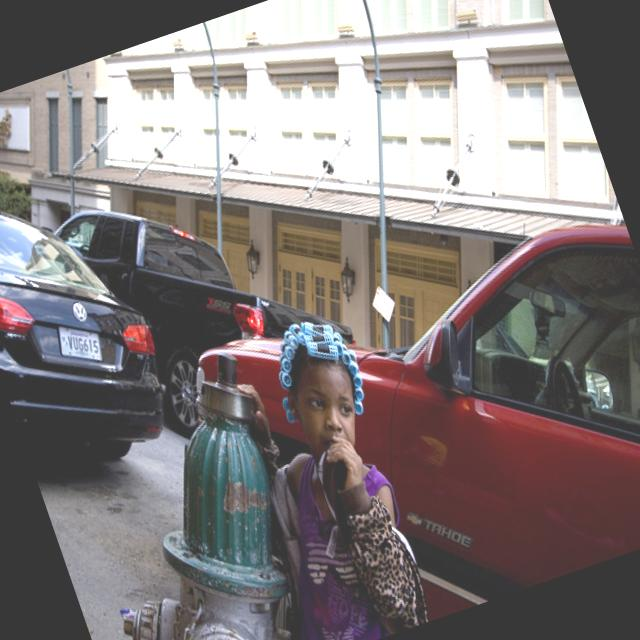Vehicle: (184, 204, 640, 640), (49, 138, 368, 452), (0, 137, 181, 487)
